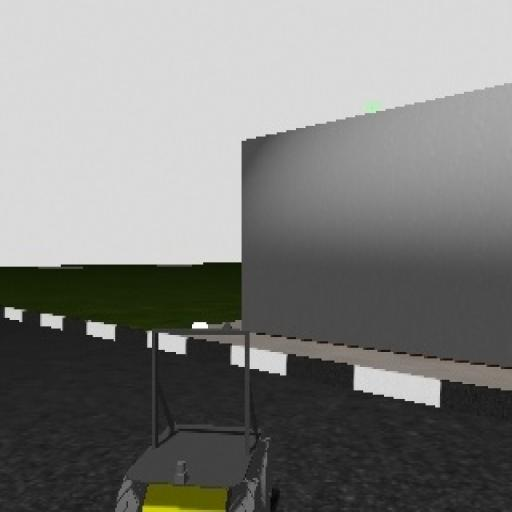huskya200: (115, 314, 291, 512)
